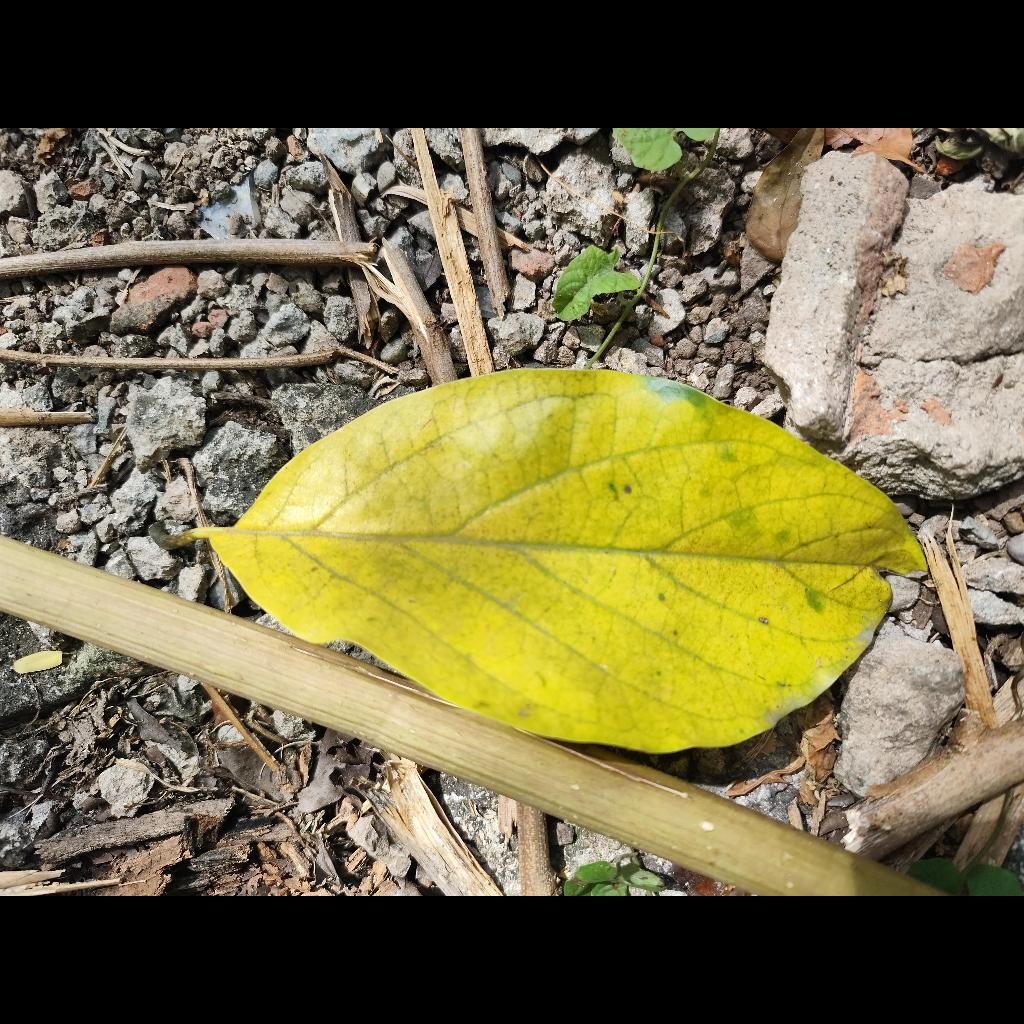nutrient_deficiency: (185, 368, 925, 752)
